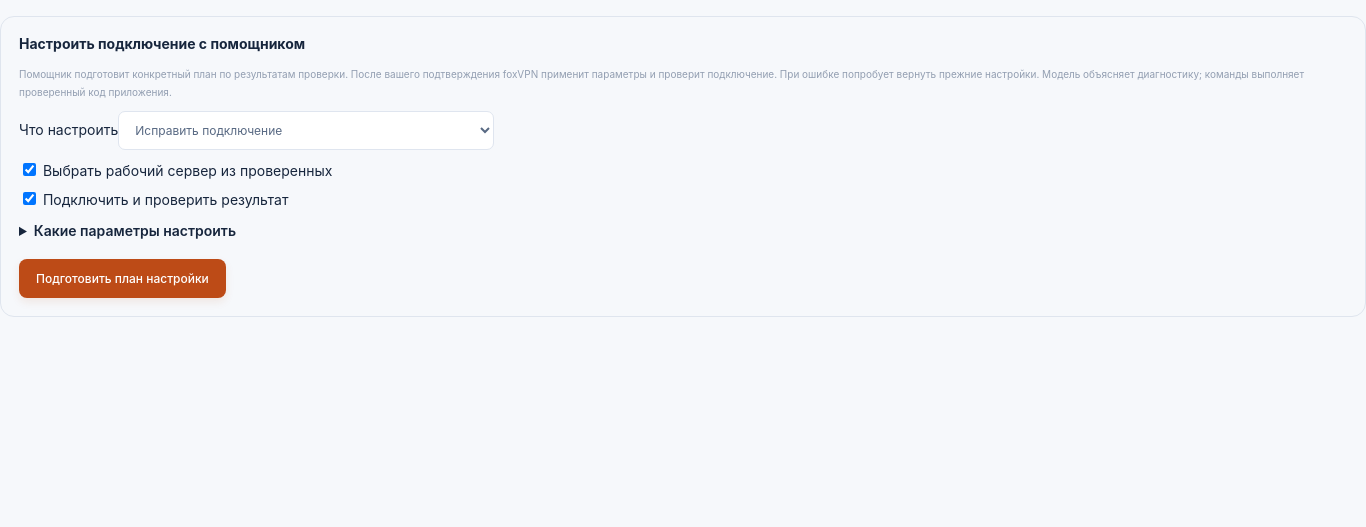
Test: unsupported platform controls are absent and explicit goals create typed patches
Select "Трафик приложений с поддержкой прокси через VPN" in the dropdown named "Цель настройки". click: (306, 130)
box: top-left (118, 111), bottom-right (494, 150)
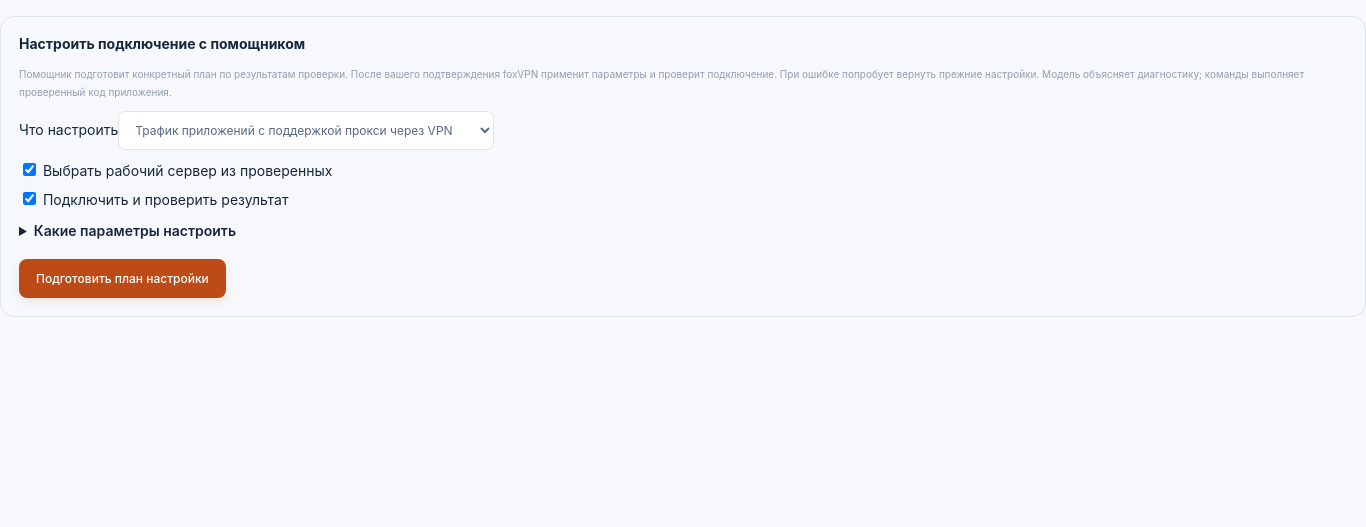
Click the button "Подготовить план настройки". click: (122, 278)
box: top-left (19, 259), bottom-right (226, 298)
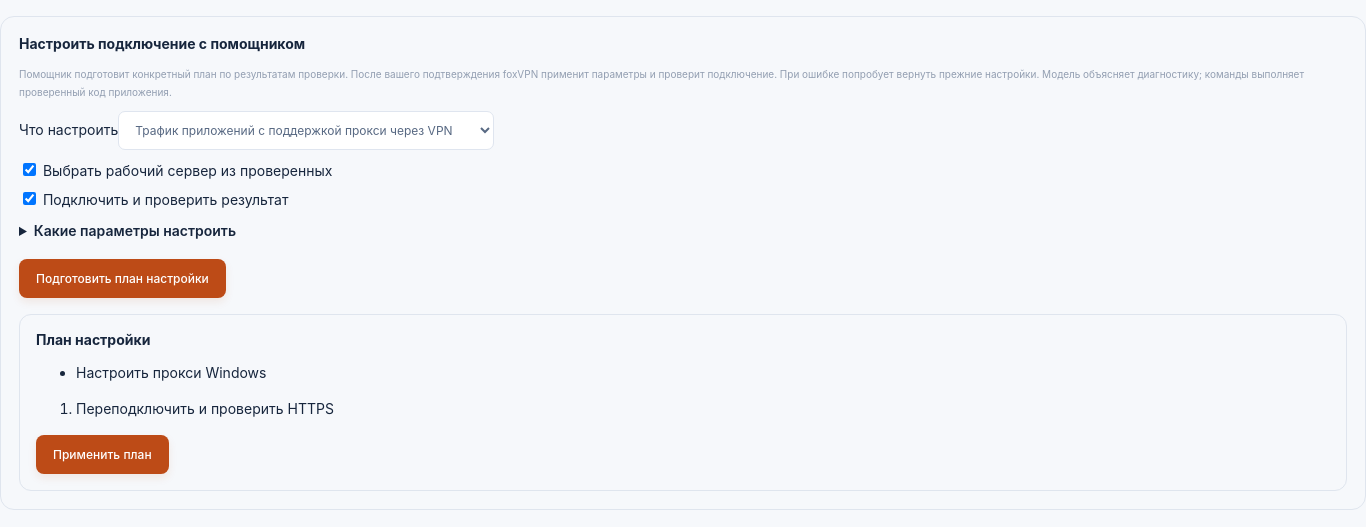
expect the text "План настройки" is shown: met, box top-left (36, 331), bottom-right (150, 348)
